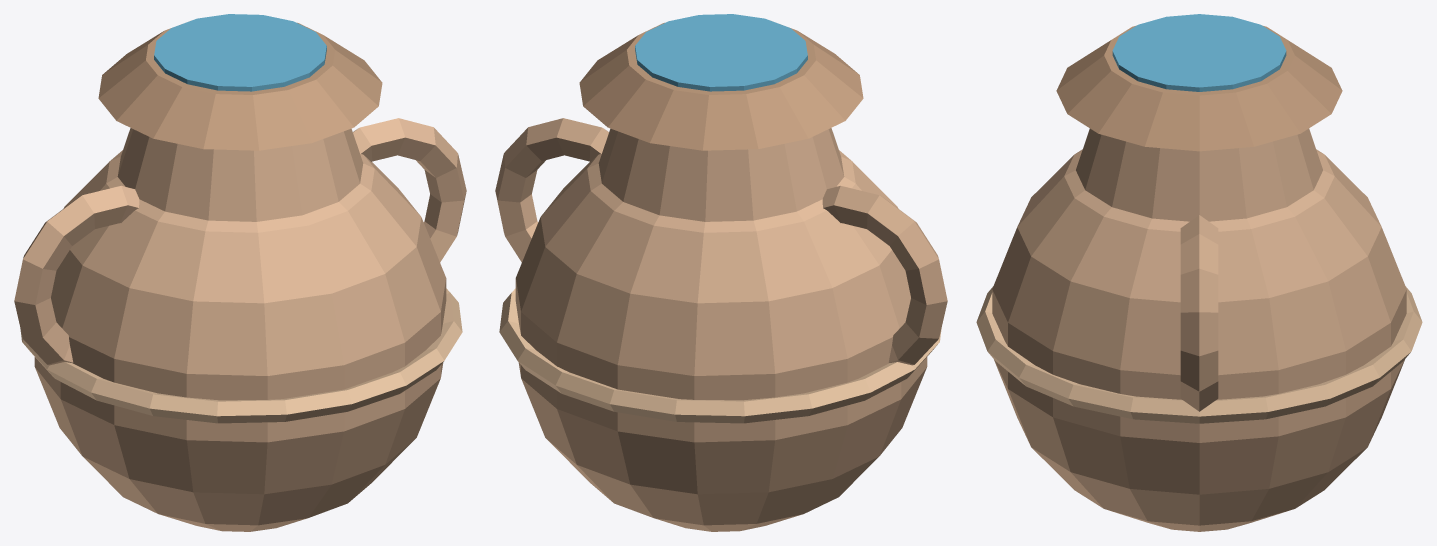
File: cantaro_barro.glb
The picture shows the model from 3 angles, left to right: view 1: azimuth 30°, elevation 25°; view 2: azimuth 150°, elevation 25°; view 3: azimuth 270°, elevation 25°; orthographic projection.
Visible parts, largest first — view 1: cantaro_barro; view 2: cantaro_barro; view 3: cantaro_barro.
Boxes of the visible parts, x1=… form: cantaro_barro: x1=14, y1=14, x2=466, y2=531; cantaro_barro: x1=495, y1=14, x2=947, y2=531; cantaro_barro: x1=976, y1=14, x2=1422, y2=531.
Bounding box in the file's own units: 1.86 × 1.82 × 1.59.
